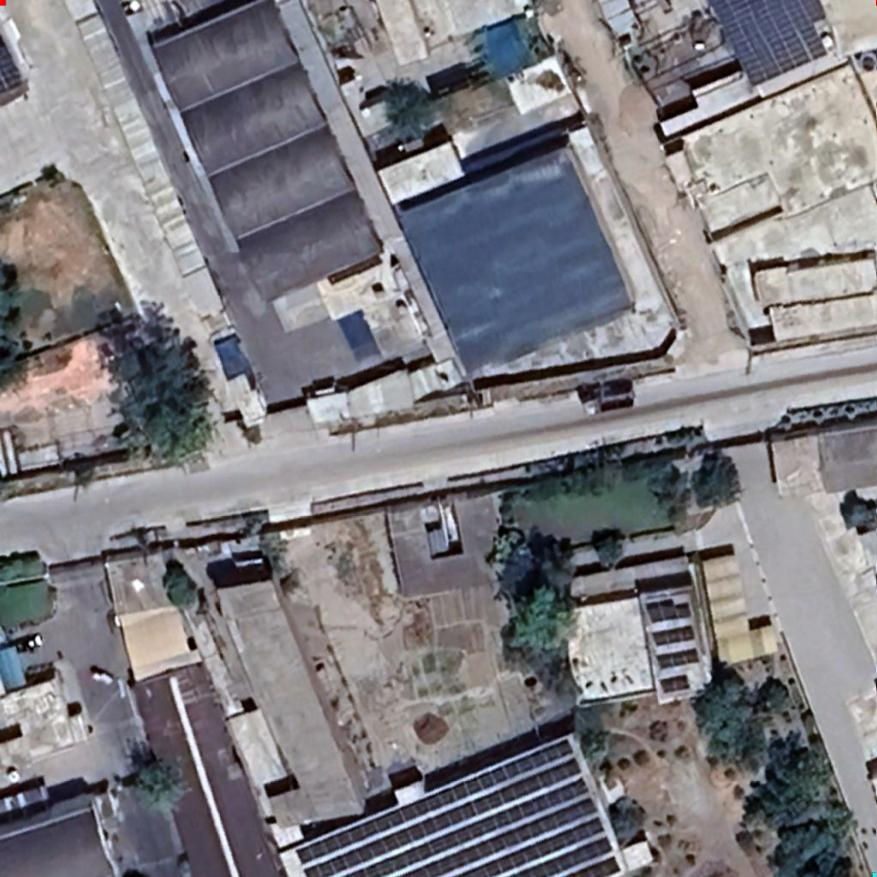Solarpanel: (295, 732, 632, 876), (702, 0, 841, 90), (650, 623, 700, 652), (648, 646, 703, 672), (646, 599, 692, 626), (654, 675, 698, 700)
